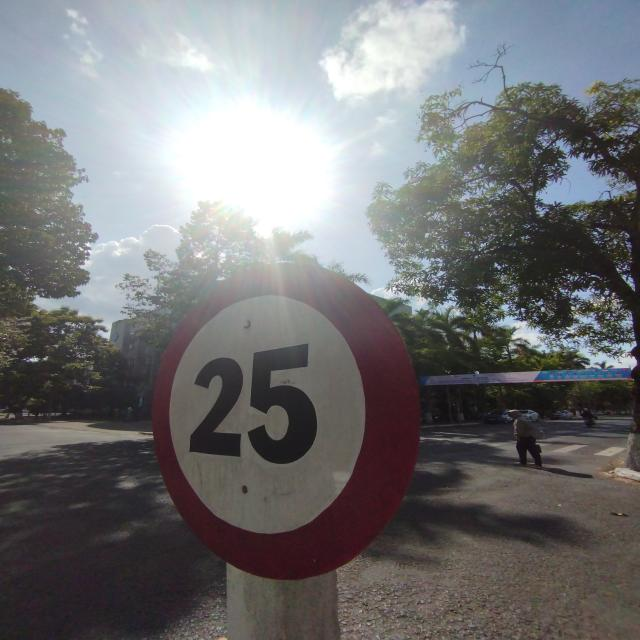Tre_Em: (149, 263, 425, 585)
